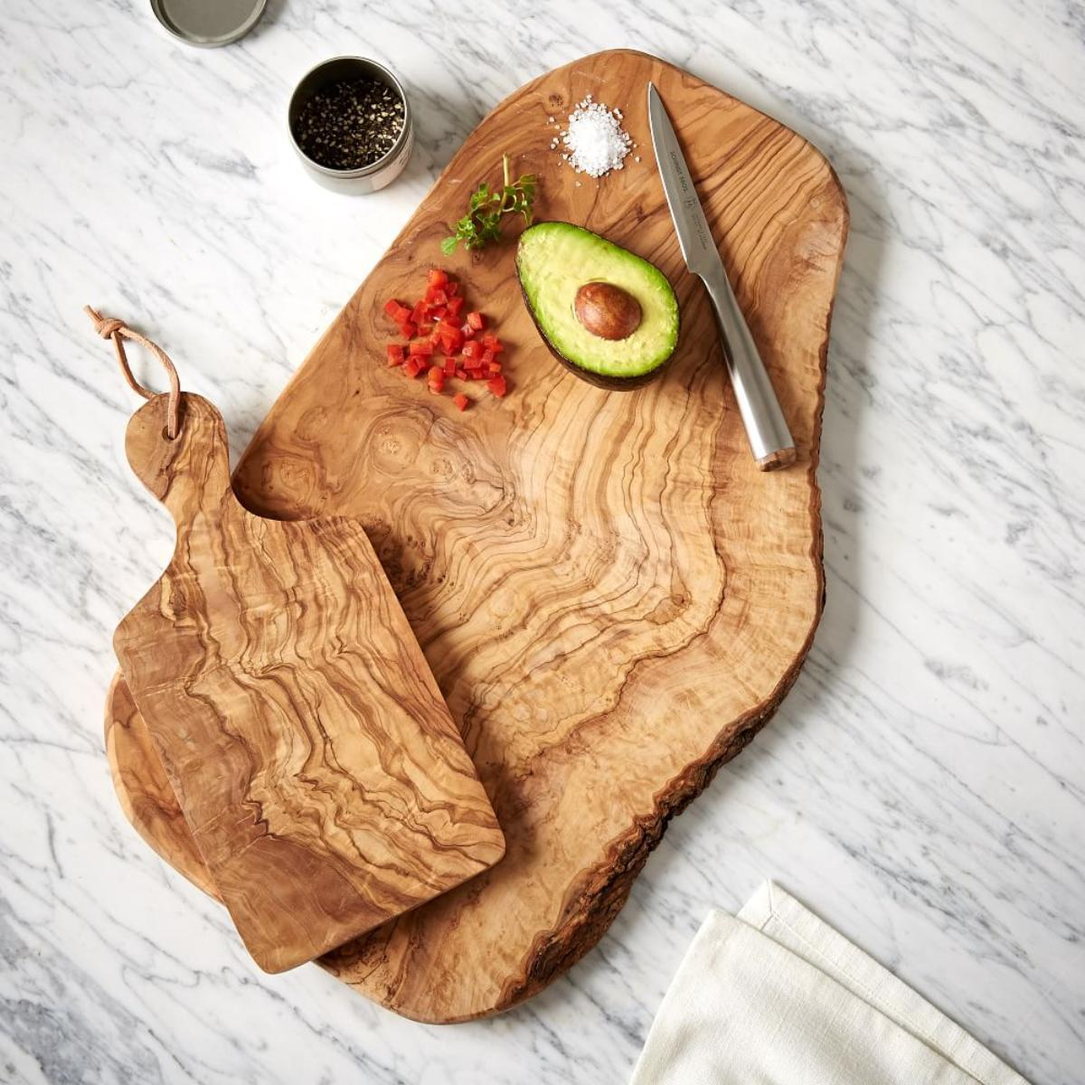gloved_hand: (104, 382, 522, 996)
